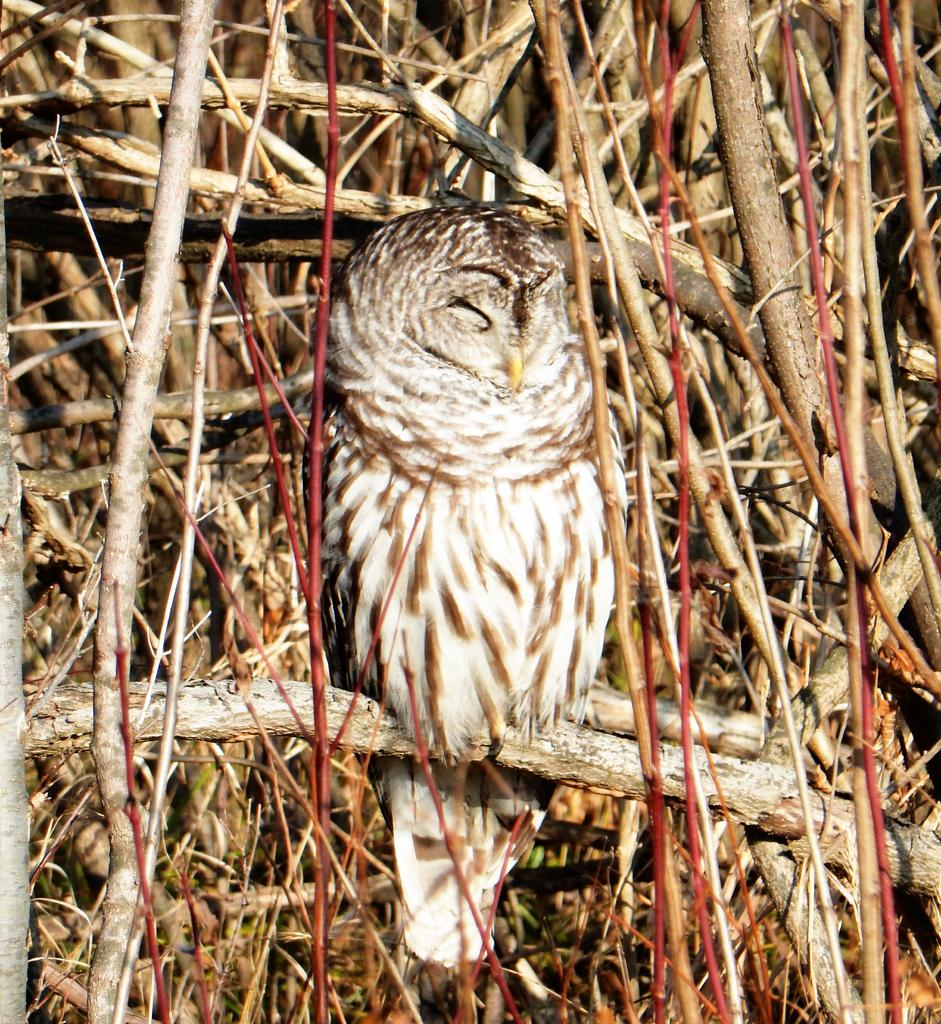Owl: (316, 202, 644, 979)
